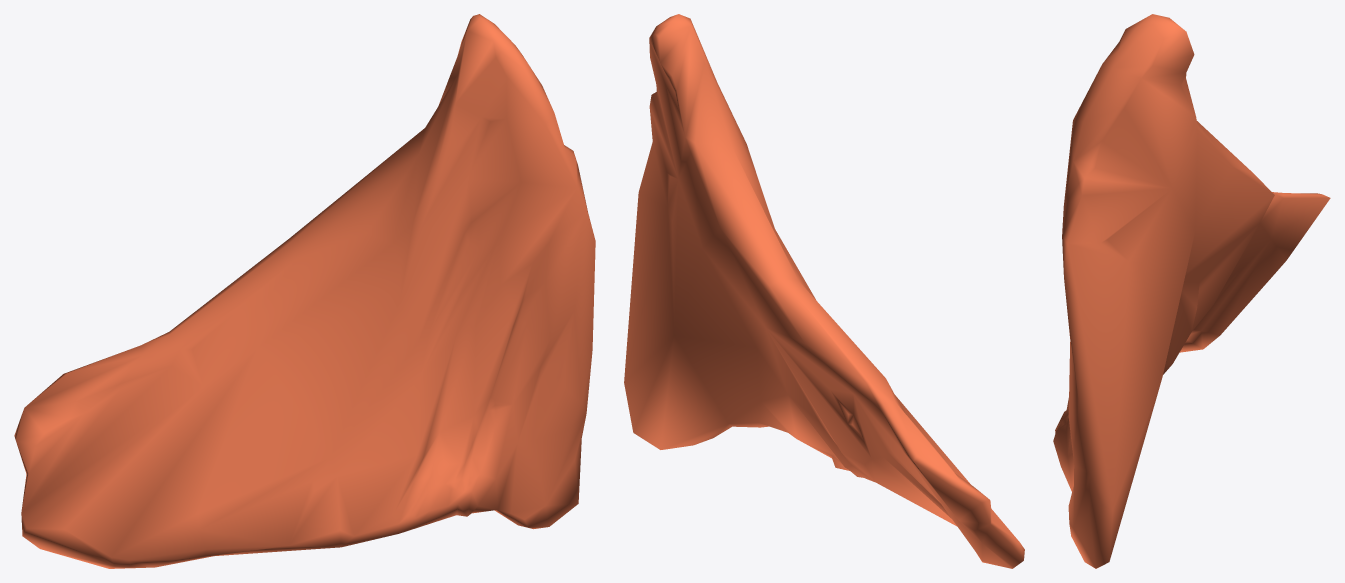
File: Depressor_septi_nasi.r_Generated_Mesh_From_X3D.985.glb
3 renders of one model, left to right at view 1: azimuth 30°, elevation 25°; view 2: azimuth 150°, elevation 25°; view 3: azimuth 270°, elevation 25°, orthographic. The views are drawn at different scales.
Parts seen in each view (by area): view 1: Depressor_septi_nasi.r_Generated_Mesh_From_X3D.985; view 2: Depressor_septi_nasi.r_Generated_Mesh_From_X3D.985; view 3: Depressor_septi_nasi.r_Generated_Mesh_From_X3D.985.
Part boxes in pixels (bbox=[...]): Depressor_septi_nasi.r_Generated_Mesh_From_X3D.985: bbox=[14, 14, 595, 568]; Depressor_septi_nasi.r_Generated_Mesh_From_X3D.985: bbox=[624, 14, 1024, 568]; Depressor_septi_nasi.r_Generated_Mesh_From_X3D.985: bbox=[1053, 14, 1330, 568].
Size of the model in its own units: 0.0166 by 0.0161 by 0.0076.
